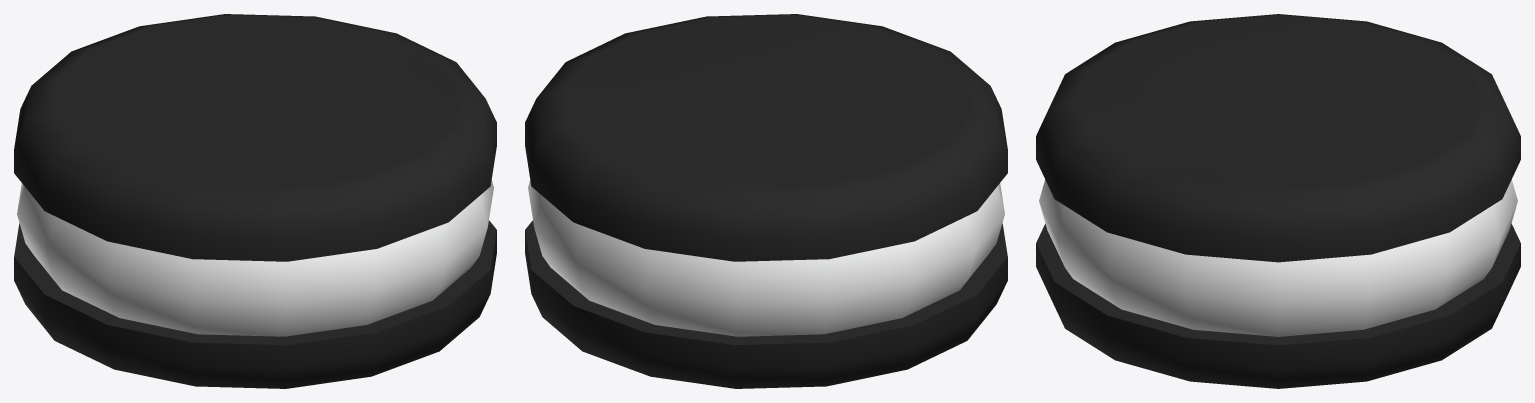
The model's file is Cookie_09.glb.
3 renders of one model, left to right at view 1: azimuth 30°, elevation 25°; view 2: azimuth 150°, elevation 25°; view 3: azimuth 270°, elevation 25°, orthographic.
Visible parts, largest first — view 1: Cookie_09; view 2: Cookie_09; view 3: Cookie_09.
Boxes of the visible parts, x1,y1,x2,y2 form: Cookie_09: (14,14,496,388); Cookie_09: (525,14,1007,388); Cookie_09: (1036,14,1520,388).
Size of the model in its own units: 2.44 by 1.11 by 2.44.
Materials: 1 (1 with a texture image).
